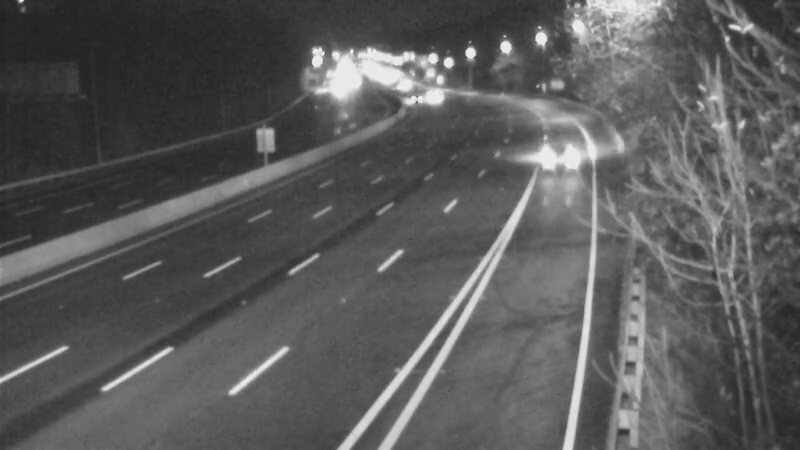vehicle: (528, 117, 608, 197), (407, 67, 457, 117), (387, 76, 437, 126)
